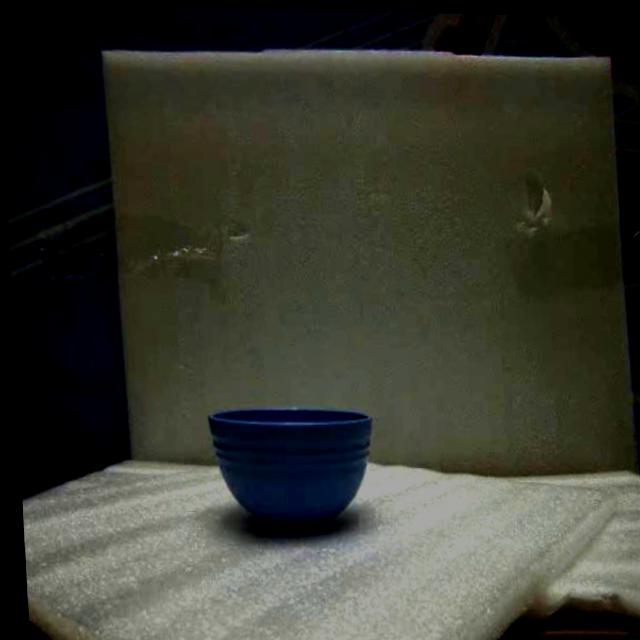Bowl: (209, 408, 371, 531)
